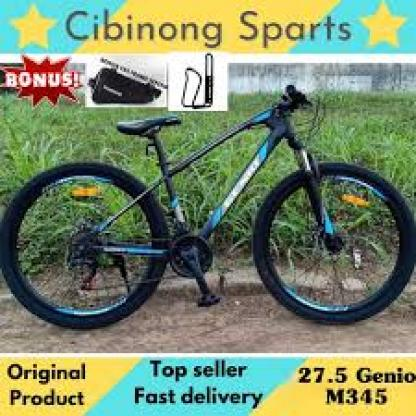Bike: (3, 80, 414, 339)
